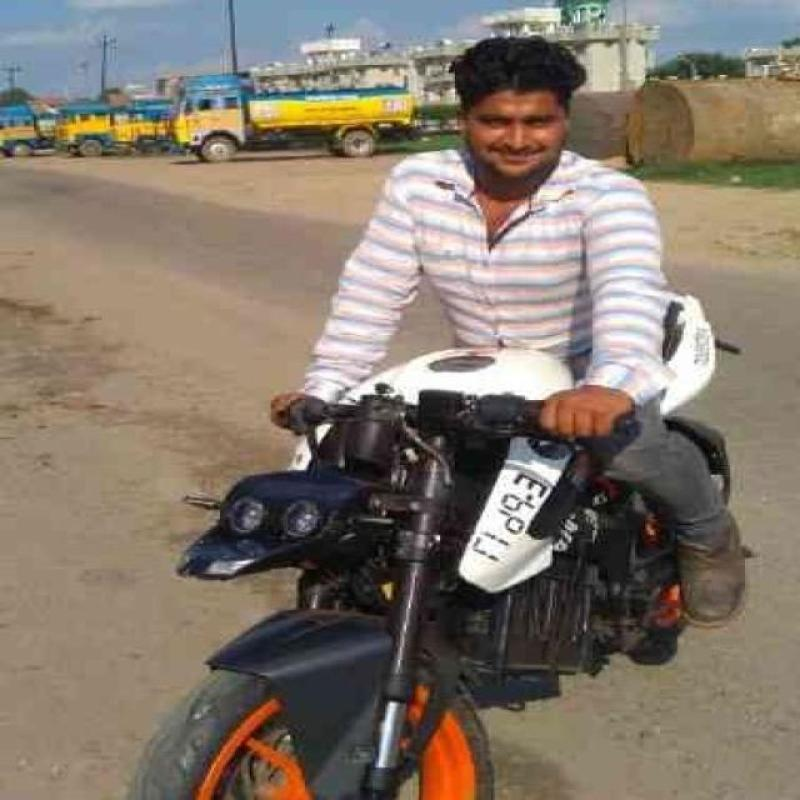nohelmet: (441, 17, 590, 182)
